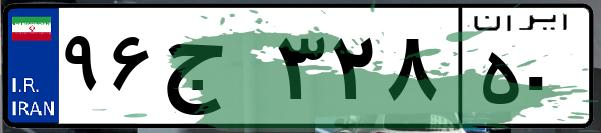0: (525, 38, 570, 115)
2: (330, 28, 385, 110)
3: (270, 28, 330, 110)
5: (475, 38, 525, 113)
6: (110, 28, 158, 98)
8: (385, 28, 445, 110)
9: (57, 26, 110, 100)
ج: (158, 20, 270, 120)
